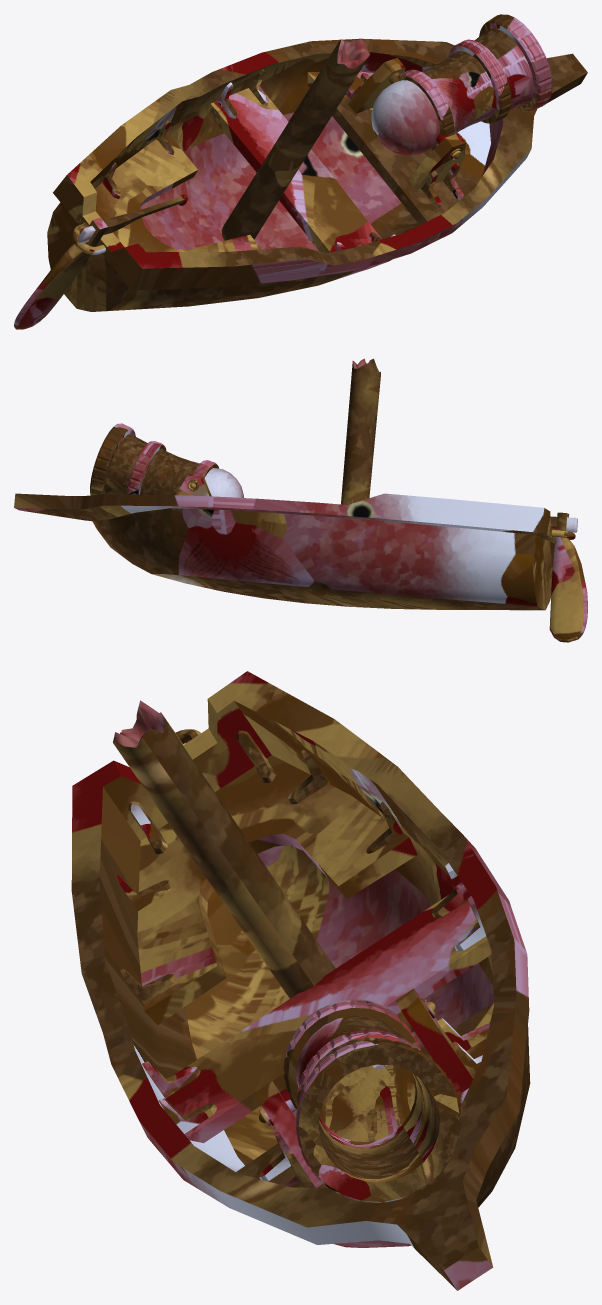
File: Barque.fbx
3 renders of one model, top to bottom at view 1: azimuth 30°, elevation 25°; view 2: azimuth 150°, elevation 25°; view 3: azimuth 270°, elevation 25°, orthographic. The views are drawn at different scales.
Parts seen in each view (by area): view 1: Barque, canon, Cylinder033, gouvernaille; view 2: Barque, canon, Cylinder033, gouvernaille; view 3: Barque, canon, Cylinder033, Box067, Box068, Box073, Box066, Box078, Box065, Box077, Box060.
Boxes of the visible parts, box(x1,y1,x2,y2) form: Barque: box(47, 38, 587, 311); canon: box(371, 14, 552, 159); Cylinder033: box(221, 38, 370, 240); gouvernaille: box(14, 194, 187, 329); Barque: box(14, 475, 575, 610); canon: box(90, 423, 243, 497); Cylinder033: box(341, 358, 380, 504); gouvernaille: box(549, 512, 587, 642); Barque: box(71, 671, 530, 1290); canon: box(258, 998, 461, 1202); Cylinder033: box(113, 700, 335, 998); Box067: box(142, 1061, 200, 1098); Box068: box(159, 1098, 217, 1133); Box073: box(288, 749, 328, 804); Box066: box(128, 801, 167, 853); Box078: box(236, 730, 275, 782); Box065: box(117, 875, 172, 910); Box077: box(432, 863, 470, 917); Box060: box(120, 968, 176, 1003).
Bounding box in the file's own units: 404 × 166 × 155.
